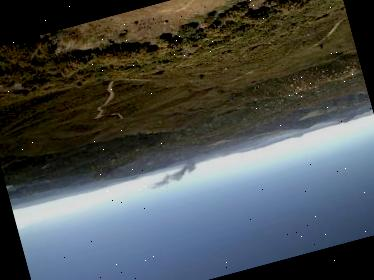smoke: (141, 155, 201, 195)
